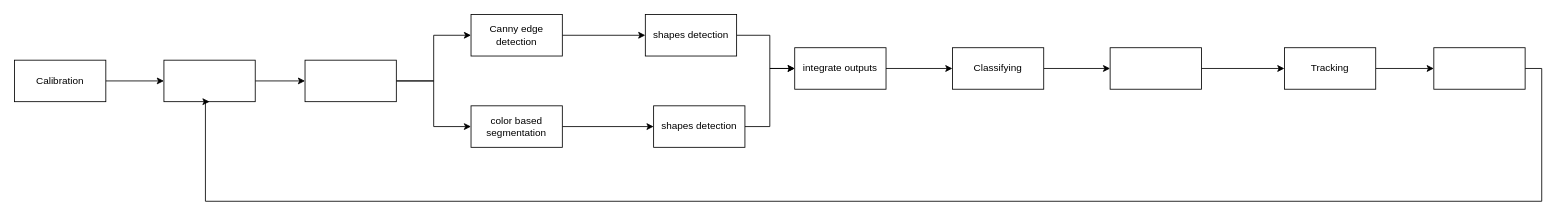
This 1563x222 diagram has some shape labels left out. Here are the shapes that lost their labels. From the top down, the box of each, then its label:
(163, 59, 255, 102): Load Image / Get next frame
(304, 59, 396, 102): Image preprocessing
(1109, 47, 1201, 89): Distance Calculation
(1433, 47, 1525, 89): bounding box
